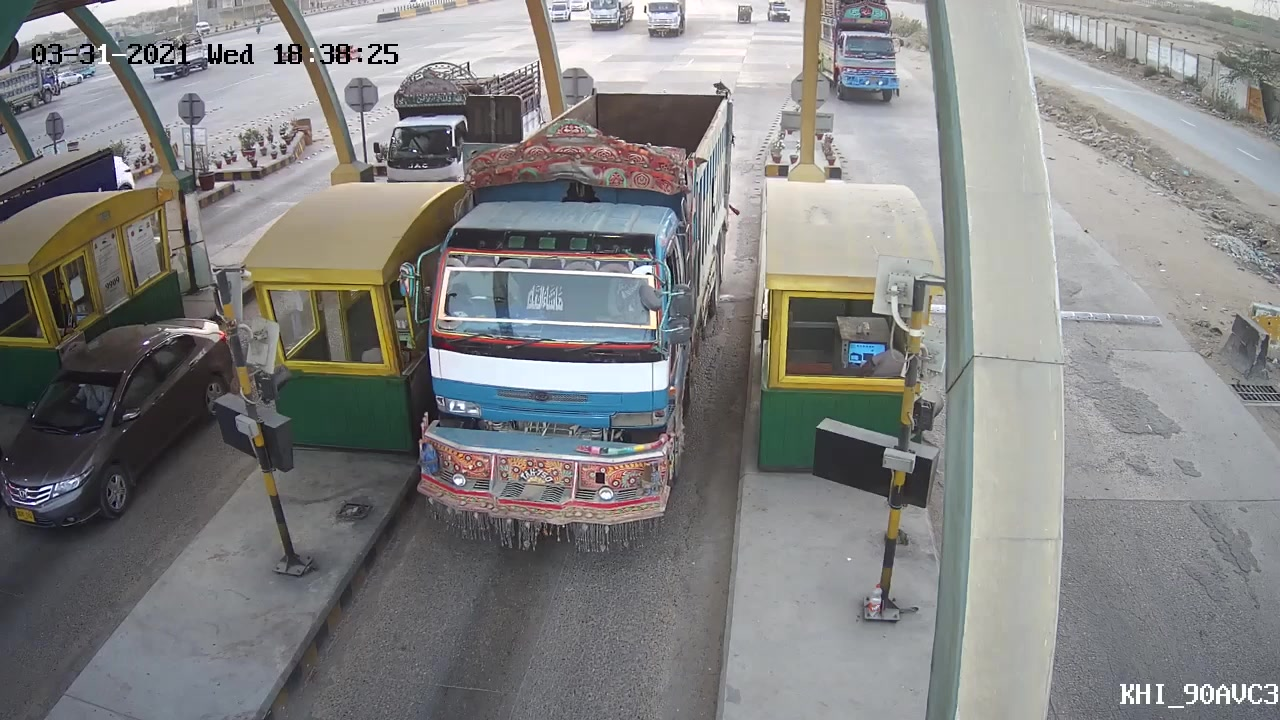F5: (409, 79, 733, 551)
